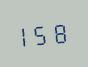eight: (53, 19, 69, 44)
five: (36, 20, 52, 46)
one: (18, 22, 34, 47)
